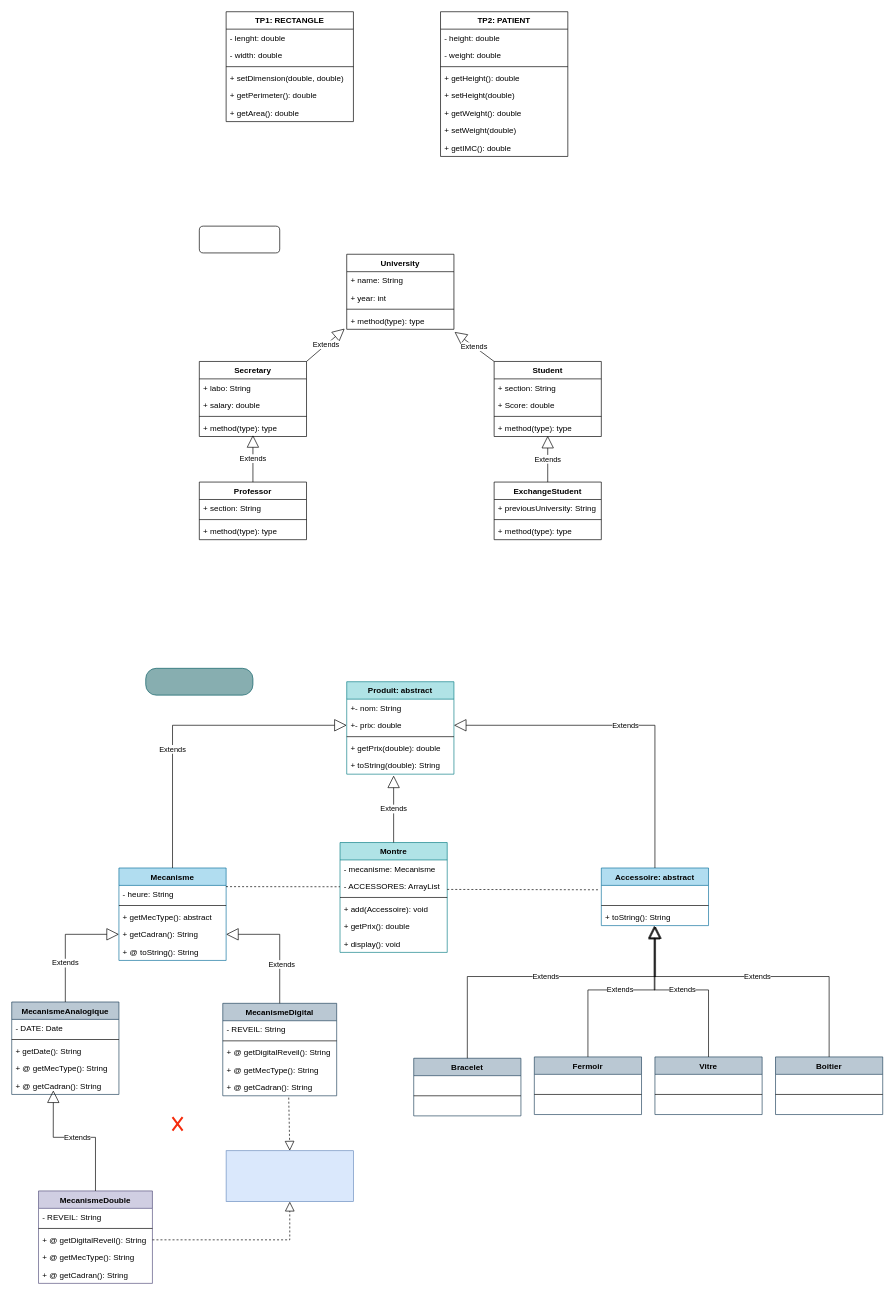
Some shapes in this 894 by 1297 pixel diagram are drawn without their labels. The shapes that lost their labels are listed below. From the top down, each one's centre as x and y in pixels, then its label:
the point at 239,239: TP6
the point at 199,681: TP de Validation
the point at 289,1176: «interface» DigitalReveilInterface getDigitalReveil()
